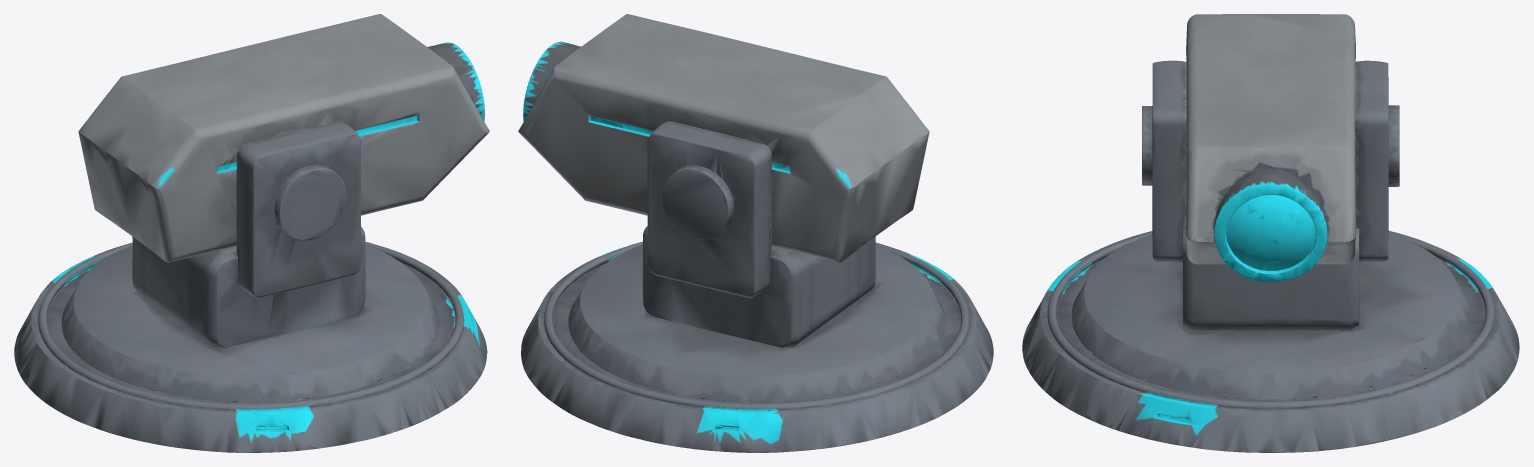
File: town-laser-full.glb
3 views of the same model, side by side, from view 1: azimuth 30°, elevation 25°; view 2: azimuth 150°, elevation 25°; view 3: azimuth 270°, elevation 25° (orthographic). The views are drawn at different scales.
Visible parts, largest first — view 1: town-laser-full; view 2: town-laser-full; view 3: town-laser-full.
Part boxes in pixels (x1=…): town-laser-full: x1=14, y1=14, x2=489, y2=452; town-laser-full: x1=518, y1=14, x2=993, y2=452; town-laser-full: x1=1022, y1=14, x2=1519, y2=452.
Bounding box in the file's own units: 3.26 × 2.03 × 3.2.
Materials: 1 (1 with a texture image).
